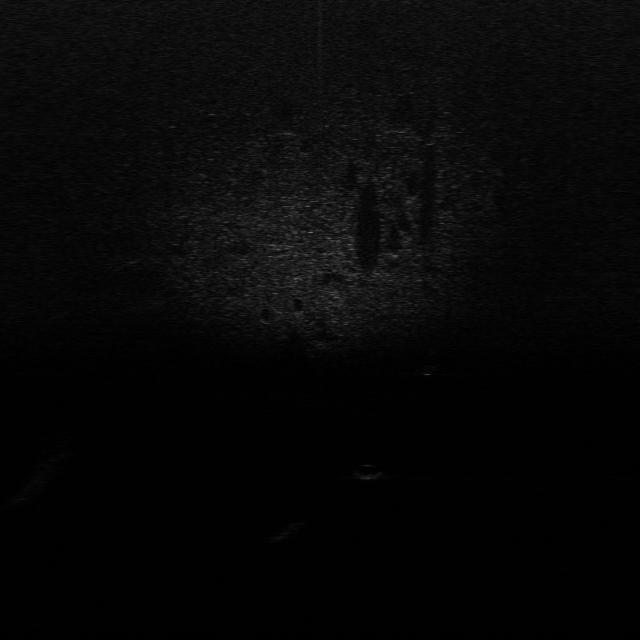ball: (354, 461, 384, 483)
square cage: (268, 521, 310, 542)
tyre: (421, 347, 442, 381)
